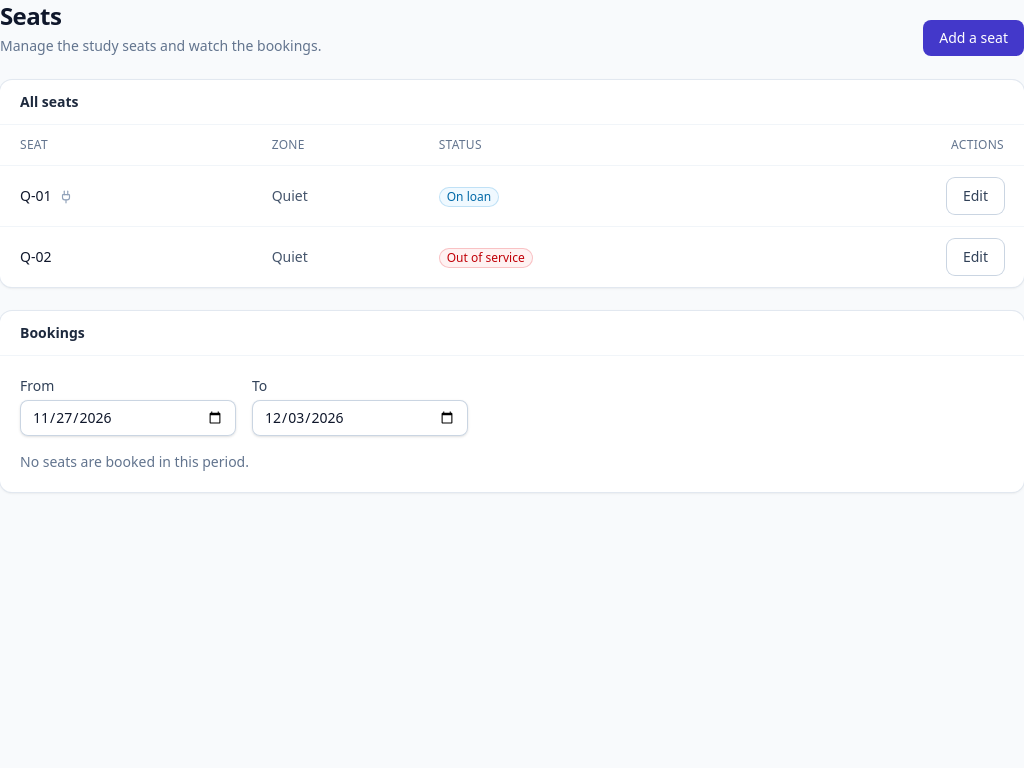
Test: StaffSeatsPage › explains why a seat with upcoming bookings cannot be taken out of service
The image size is (1024, 768).
Click the button with aria-label "Edit seat Q-01". click: x=975, y=196
box: [947, 178, 1004, 214]
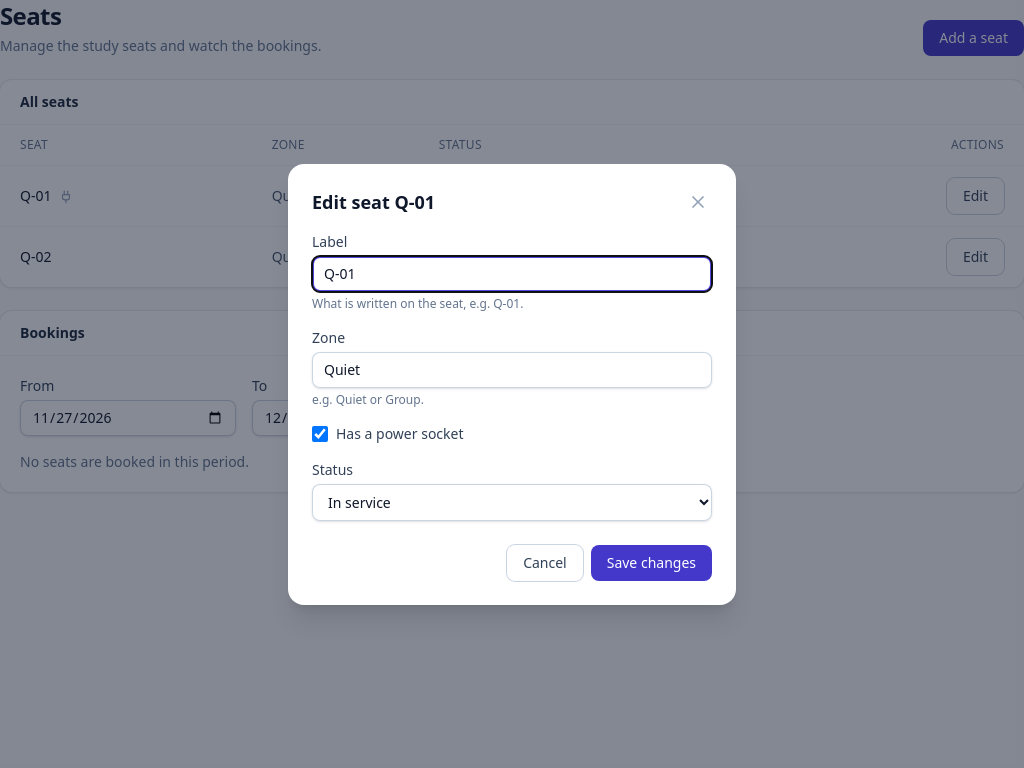
Select "Out of service" in the dropdown labelled "Status". click: x=512, y=502
box: [312, 484, 712, 520]
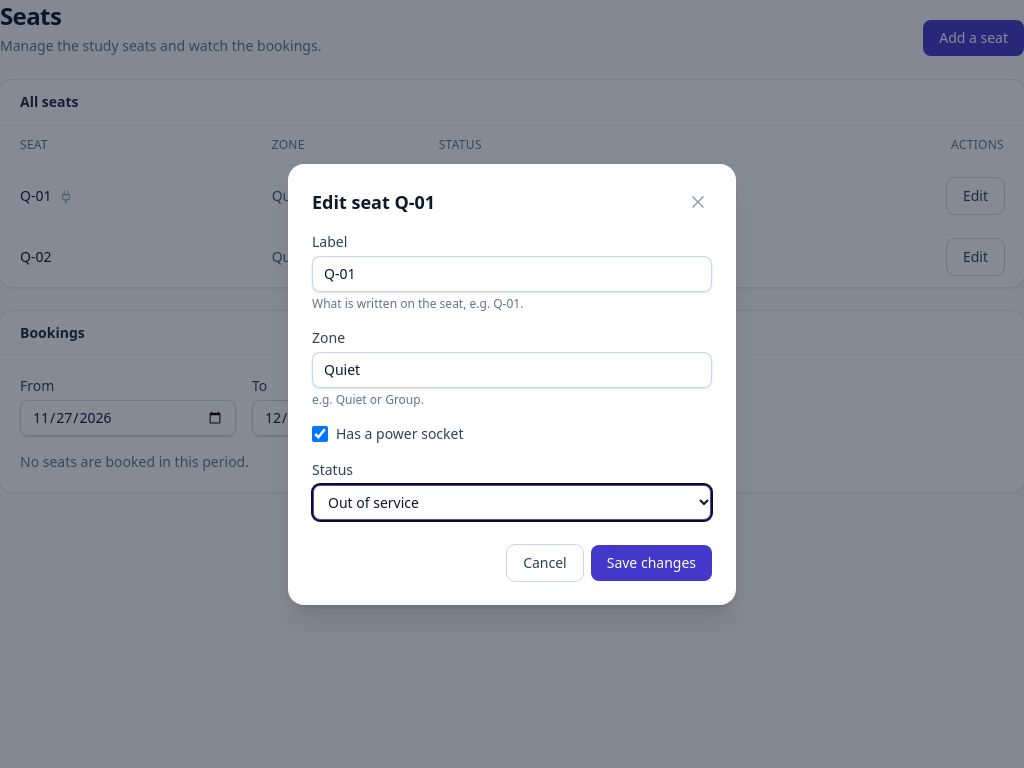
Click the button "Save changes". click: x=651, y=562
box: [591, 544, 712, 580]
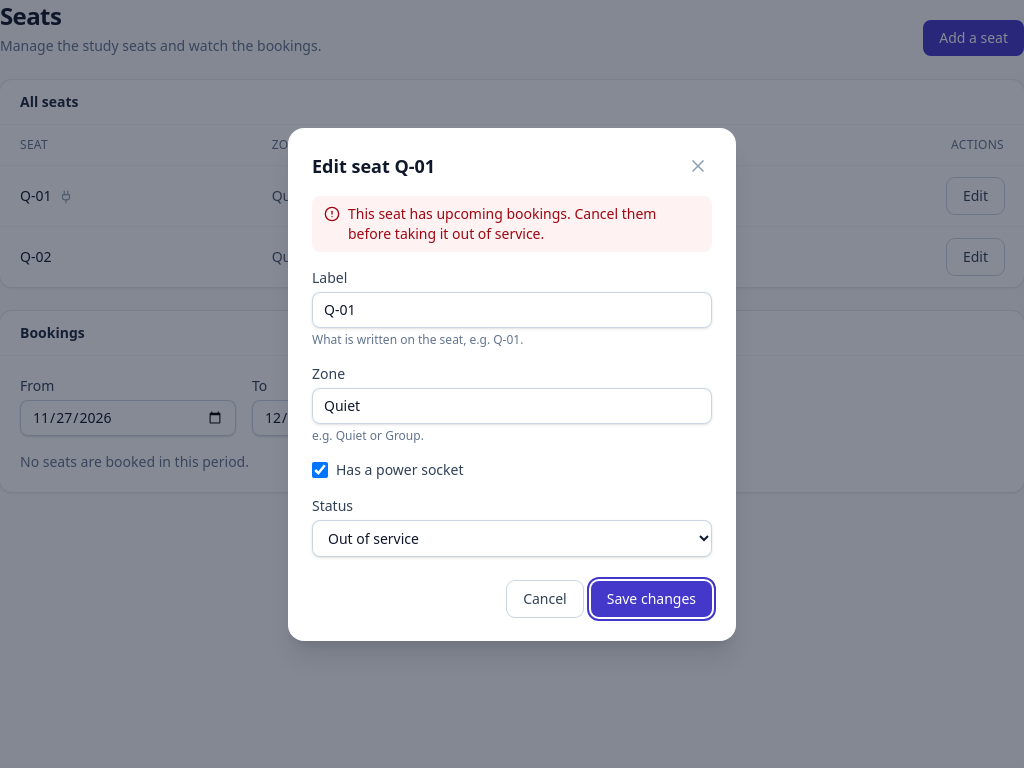
expect the text "upcoming bookings. Cancel them before" is shown: met, box [348, 204, 656, 242]
